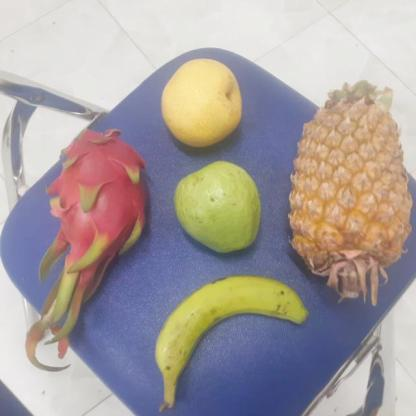banana: (154, 276, 299, 388)
guava: (169, 163, 262, 252)
pear: (154, 60, 244, 147)
pineapple: (286, 86, 412, 308)
pitaya: (45, 128, 151, 260)
